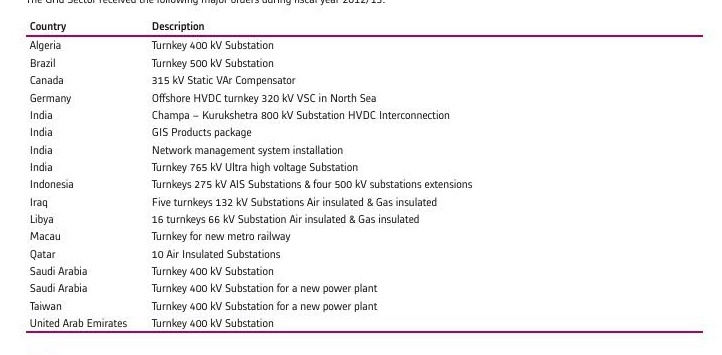table: (0, 0, 722, 355)
